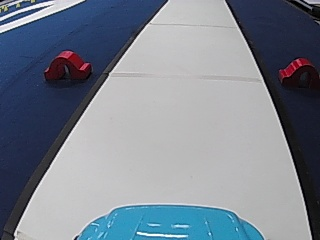bridge: (42, 46, 92, 83), (276, 55, 318, 89)
